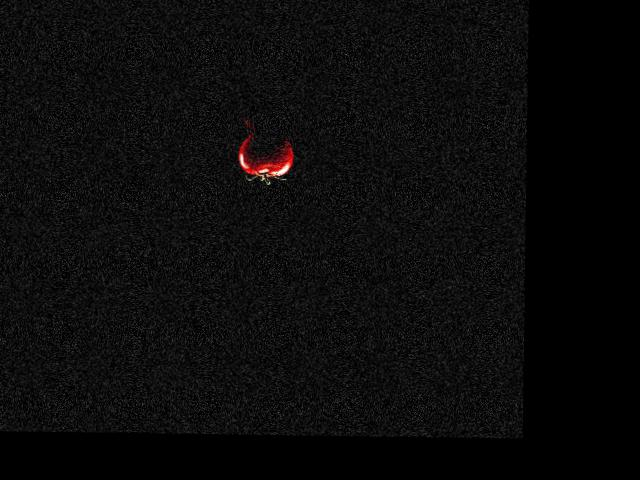tomato: (238, 133, 294, 178)
